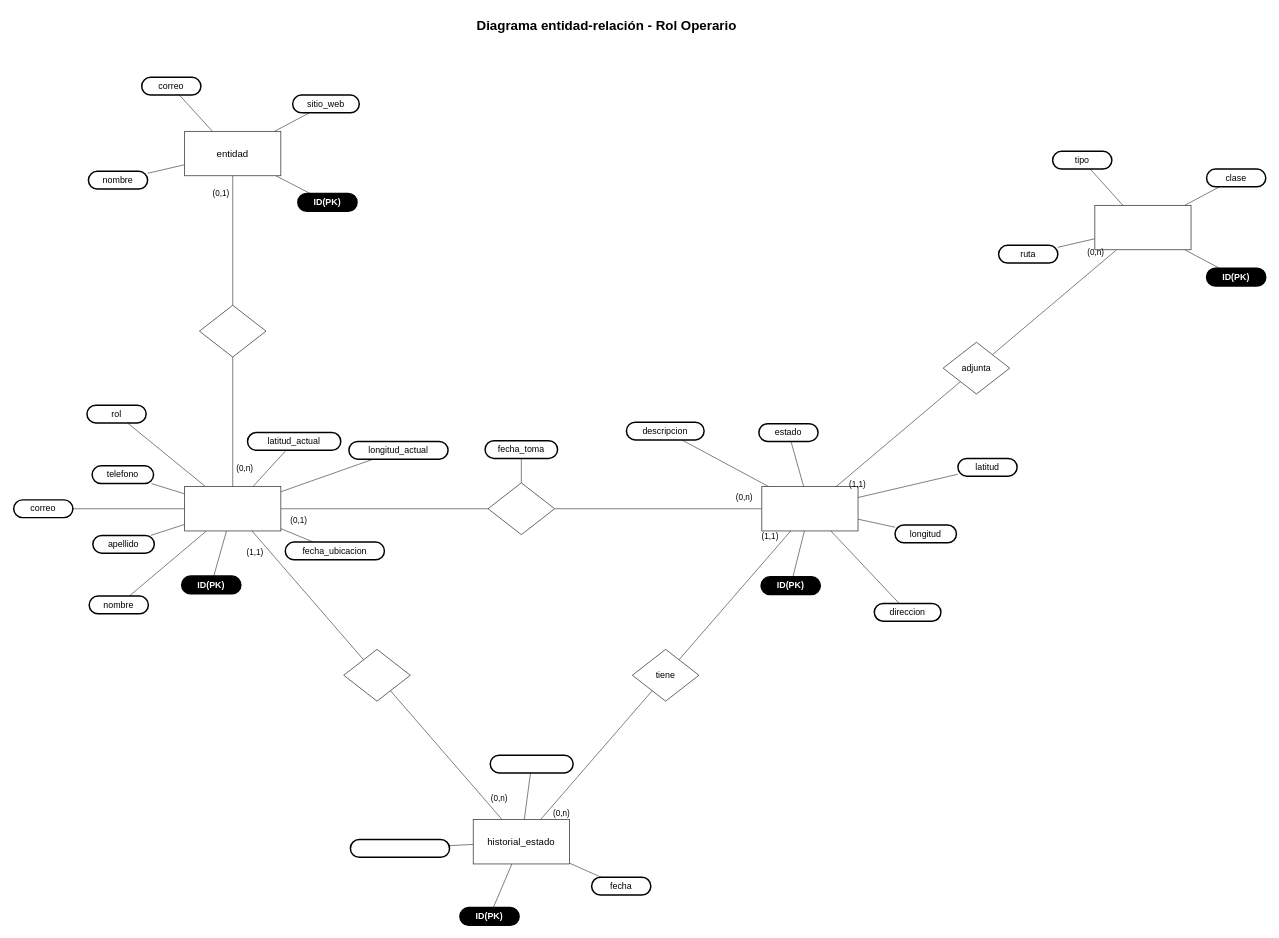
Some shapes in this 1279 by 938 pixel diagram are drawn without their labels. Each missing label, with the centre of its shape:
cambia: the point at 376,675
estado_anterior: the point at 399,848
estado_nuevo: the point at 531,763
imagen: the point at 1142,227
pertenece: the point at 232,331
reporte: the point at 809,508
toma: the point at 521,508
usuario: the point at 232,508
